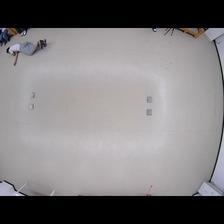fall: (5, 37, 49, 68)
